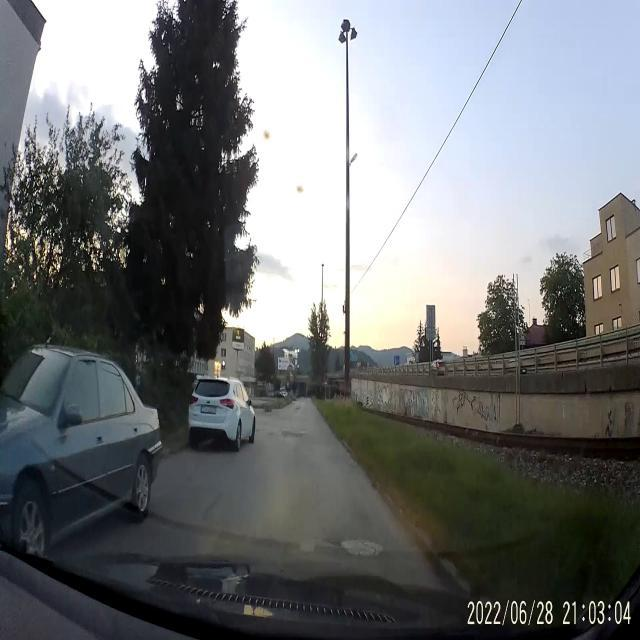Manhole: (340, 532, 382, 562)
Pothole: (280, 425, 304, 440)
